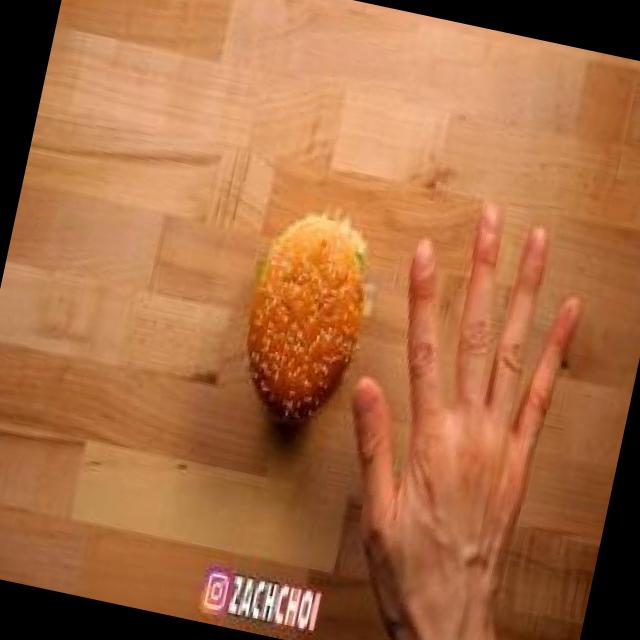burger: (219, 184, 397, 451)
